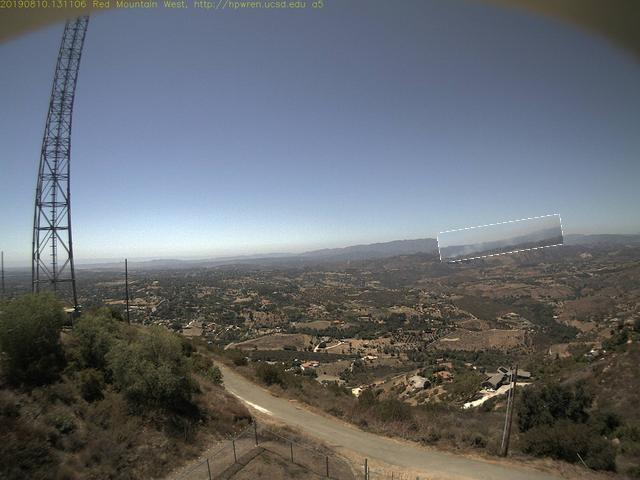smoke: (439, 220, 565, 260)
